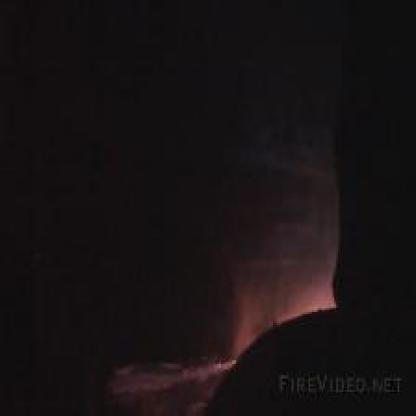other: (242, 300, 341, 326)
